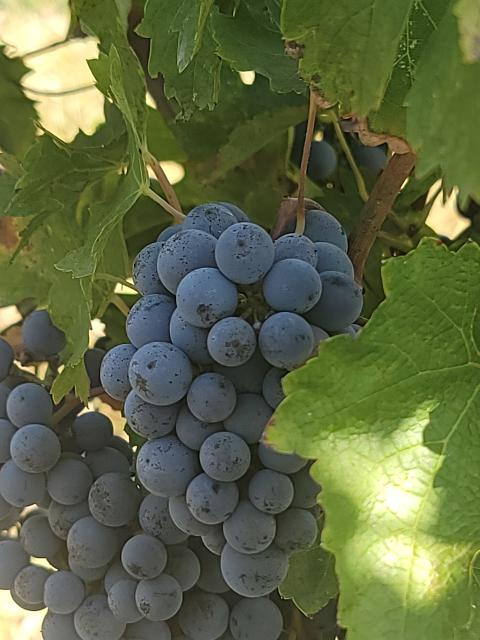grapes: (101, 204, 362, 600), (0, 382, 230, 640)
